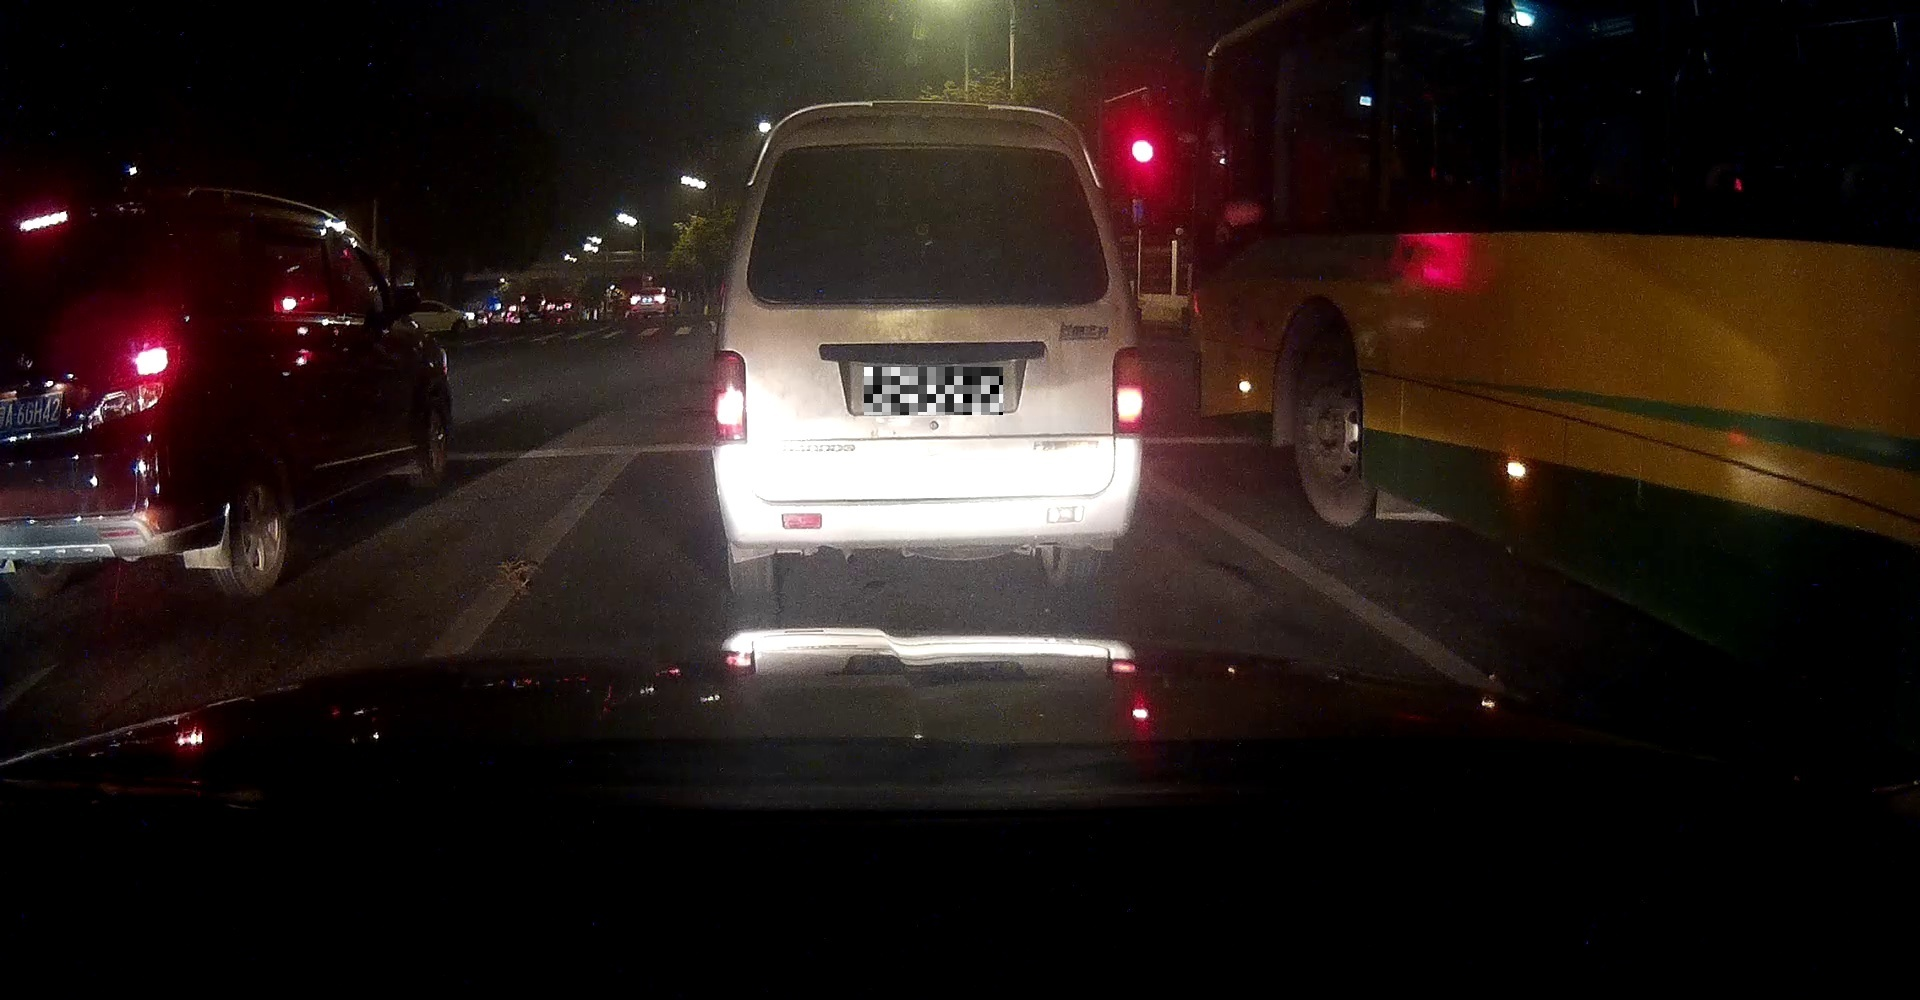L_light: (710, 352, 748, 445)
R_light: (1111, 346, 1145, 437)
T_light: (899, 143, 960, 164)
night-no: (711, 103, 1145, 596)
plate_1: (863, 367, 1003, 415)
